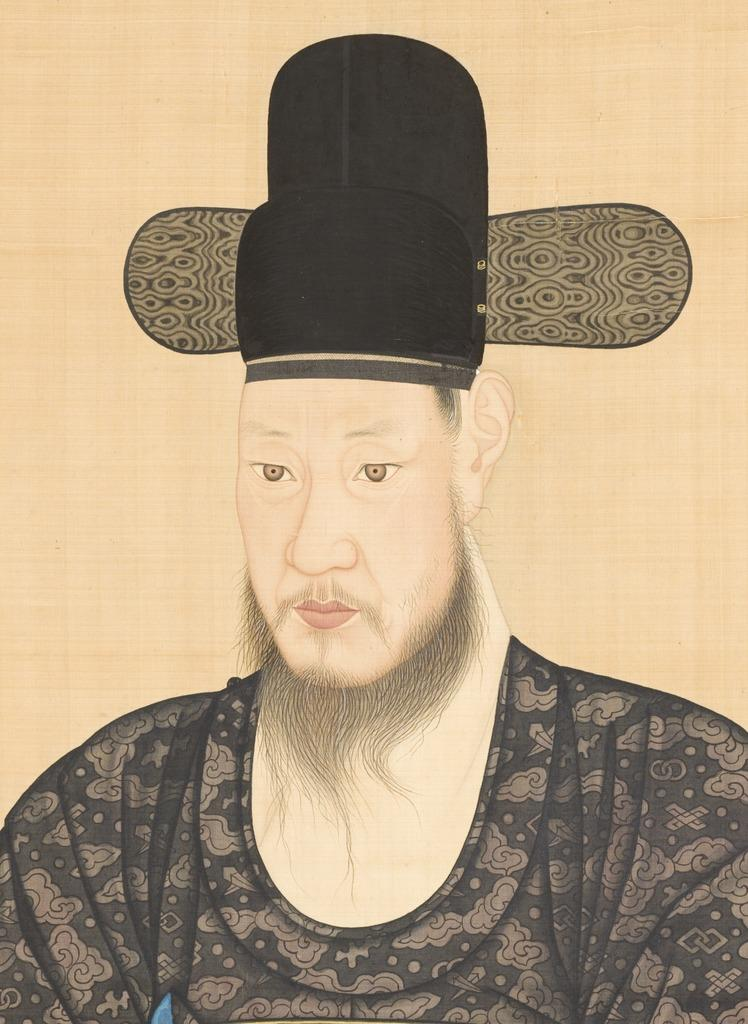Hat: (118, 32, 692, 361)
